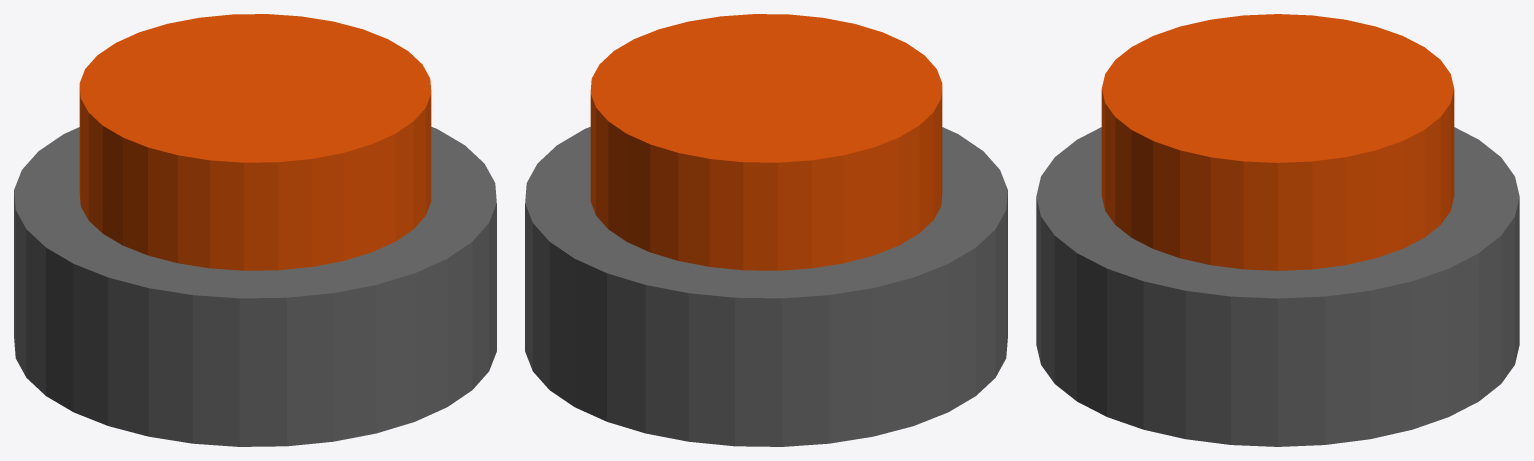
Rendered from OrangeButton.glb.
3 renders of one model, left to right at view 1: azimuth 30°, elevation 25°; view 2: azimuth 150°, elevation 25°; view 3: azimuth 270°, elevation 25°, orthographic.
Parts seen in each view (by area): view 1: Base, Button; view 2: Base, Button; view 3: Base, Button.
Part boxes in pixels (<box>): Base: <box>14,127,496,446</box>; Button: <box>79,14,431,270</box>; Base: <box>525,127,1007,446</box>; Button: <box>590,14,942,270</box>; Base: <box>1036,127,1519,446</box>; Button: <box>1101,14,1454,270</box>.
Size of the model in its own units: 0.9081 by 0.5316 by 0.9081.
